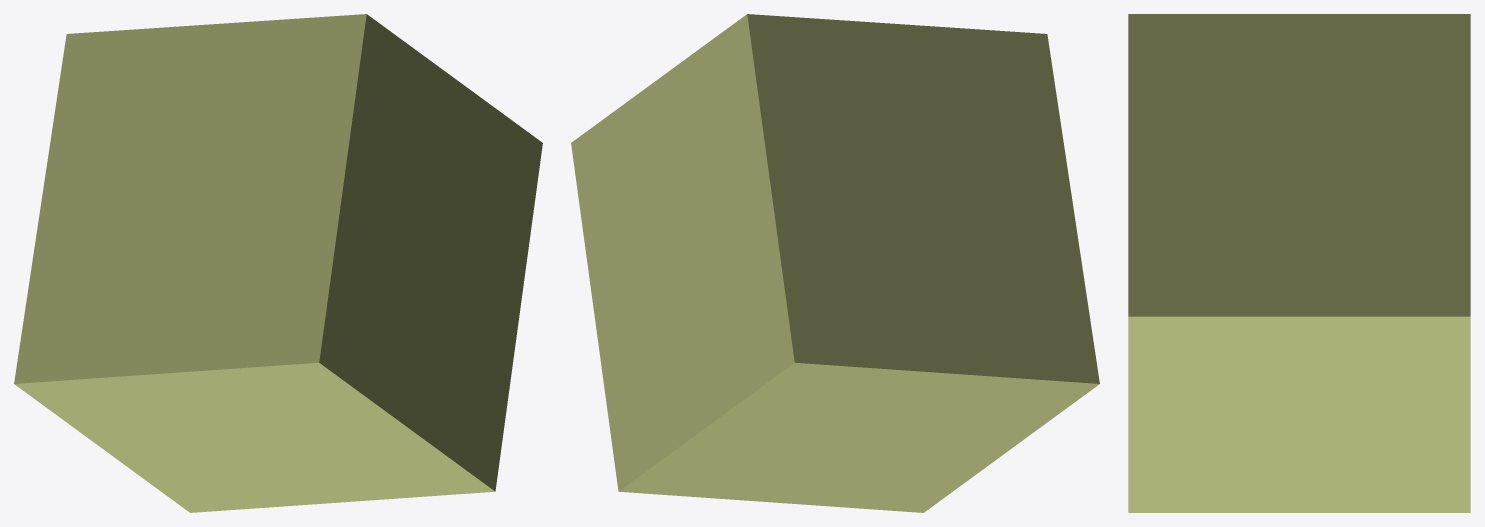
3 renders of one model, left to right at view 1: azimuth 30°, elevation 25°; view 2: azimuth 150°, elevation 25°; view 3: azimuth 270°, elevation 25°, orthographic. The views are drawn at different scales.
Visible parts, largest first — view 1: 0_0_1_2_0_0_0_2_1_1; view 2: 0_0_1_2_0_0_0_2_1_1; view 3: 0_0_1_2_0_0_0_2_1_1.
Boxes of the visible parts, bbox=[...] form: 0_0_1_2_0_0_0_2_1_1: bbox=[14, 14, 542, 512]; 0_0_1_2_0_0_0_2_1_1: bbox=[571, 14, 1099, 512]; 0_0_1_2_0_0_0_2_1_1: bbox=[1128, 14, 1470, 512].
Bounding box in the file's own units: 10.4 × 11 × 9.
